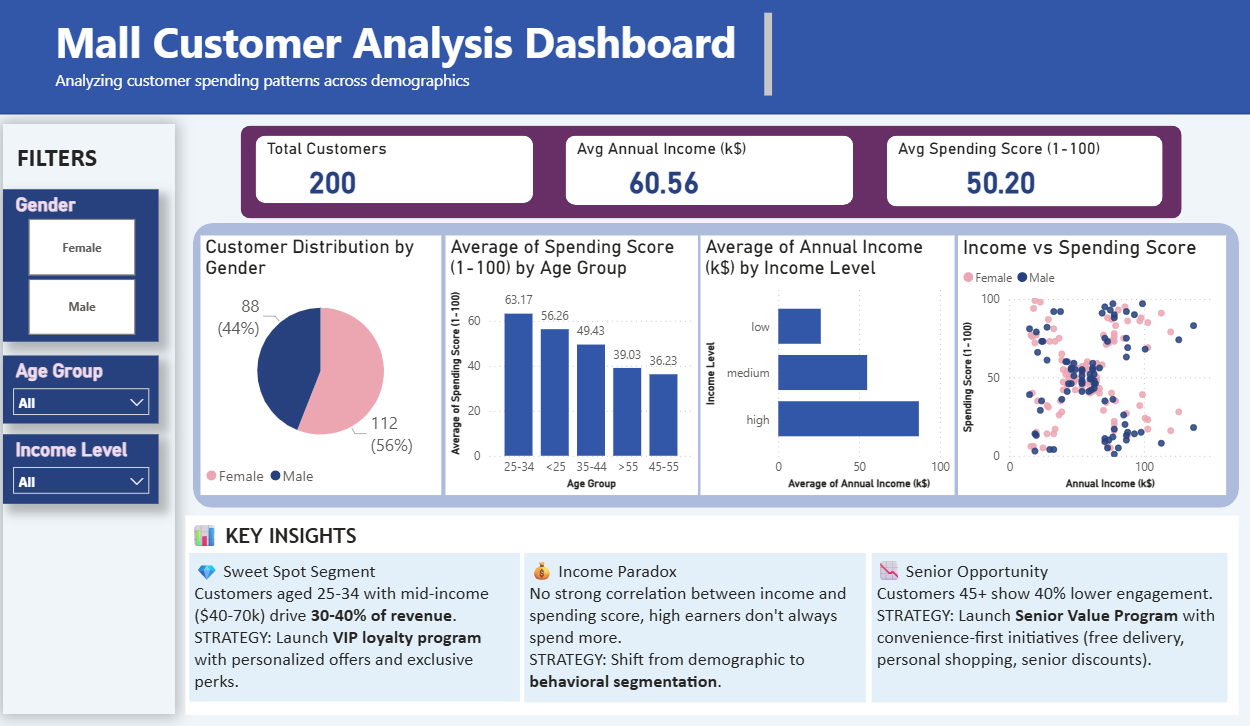

Layout of this report page (visuals, bound fields, positions):
{"tool":"powerbi","page":{"name":"Page 1","canvas":[1290,746],"ordinal":0},"visuals":[{"type":"shape","box":[247.8,129.9,963.3,95.3],"z":1000},{"type":"shape","box":[909.6,140.3,282.4,72.8],"z":2000},{"type":"shape","box":[580.4,140.3,294.5,71],"z":3000},{"type":"shape","box":[199.1,230.5,1070.3,291.6],"z":4000},{"type":"shape","box":[5.2,129.2,176.4,604.1],"z":5000},{"type":"shape","box":[0,0,1290.4,118.7],"z":6000},{"type":"shape","box":[263.3,140.3,284.1,69.3],"z":7000},{"type":"card","title":"Total Customers","fields":{"Values":["CountNonNull(Mall_Customers.CustomerID)"]},"box":[270.3,143.8,145.5,67.6],"z":8000},{"type":"card","title":"Avg Annual Income (k$)","fields":{"Values":["Avg(Mall_Customers.Annual Income (k$))"]},"box":[587.3,143.8,188.8,67.6],"z":9000},{"type":"card","title":"Avg Spending Score (1-100)","fields":{"Values":["Avg(Mall_Customers.Spending Score (1-100))"]},"box":[916.5,143.8,220,67.6],"z":10000},{"type":"pieChart","title":"Customer Distribution by Gender","fields":{"Category":["Mall_Customers.Gender"],"Y":["CountNonNull(Mall_Customers.CustomerID)"]},"box":[207.8,242.7,246.2,265.4],"z":11000},{"type":"clusteredColumnChart","fields":{"Category":["Mall_Customers.Age Group"],"Y":["Avg(Mall_Customers.Spending Score (1-100))"]},"box":[457.5,242.7,258.4,265.4],"z":12000},{"type":"clusteredBarChart","fields":{"Category":["Mall_Customers.Income Level"],"Y":["Avg(Mall_Customers.Annual Income (k$))"]},"box":[719.4,242.7,260.2,265.4],"z":13000},{"type":"scatterChart","title":"Income vs Spending Score","fields":{"X":["Mall_Customers.Annual Income (k$)"],"Y":["Mall_Customers.Spending Score (1-100)"],"Series":["Mall_Customers.Gender"]},"box":[983,242.7,274.1,265.4],"z":14000},{"type":"slicer","fields":{"Values":["Mall_Customers.Gender"]},"box":[5.2,195.8,159.4,155.9],"z":15000},{"type":"slicer","fields":{"Values":["Mall_Customers.Age Group"]},"box":[5.2,365.6,159.4,69.3],"z":16000},{"type":"textbox","box":[53.7,10.4,743.3,100.5],"z":17000},{"type":"slicer","fields":{"Values":["Mall_Customers.Income Level"]},"box":[5.2,447,159.4,71],"z":18000},{"type":"textbox","box":[192.1,529.1,1077.3,204.3],"z":19000},{"type":"textbox","box":[195.6,567.5,338.7,151.9],"z":19001},{"type":"textbox","box":[538.8,567.5,350,152.5],"z":19002},{"type":"textbox","box":[894,567.5,363.8,152.5],"z":19003},{"type":"textbox","box":[13.9,142.1,157.7,52],"z":19004}]}

Visuals, with their boxes in screenshot pixels (x1, y1, x2, y2), scaled from the page's 1290x746 canvas onto the 1250x726 screenshot:
shape: crop(240, 126, 1174, 219)
shape: crop(881, 137, 1155, 207)
shape: crop(562, 137, 848, 206)
shape: crop(193, 224, 1230, 508)
shape: crop(5, 126, 176, 714)
shape: crop(0, 0, 1249, 116)
shape: crop(255, 137, 530, 204)
"Total Customers" card: crop(262, 140, 403, 206)
"Avg Annual Income (k$)" card: crop(569, 140, 752, 206)
"Avg Spending Score (1-100)" card: crop(888, 140, 1101, 206)
"Customer Distribution by Gender" pieChart: crop(201, 236, 440, 494)
clusteredColumnChart - Mall_Customers.Age Group x Avg(Mall_Customers.Spending Score (1-100)): crop(443, 236, 694, 494)
clusteredBarChart - Mall_Customers.Income Level x Avg(Mall_Customers.Annual Income (k$)): crop(697, 236, 949, 494)
"Income vs Spending Score" scatterChart: crop(953, 236, 1218, 494)
slicer - Mall_Customers.Gender: crop(5, 191, 159, 342)
slicer - Mall_Customers.Age Group: crop(5, 356, 159, 423)
textbox: crop(52, 10, 772, 108)
slicer - Mall_Customers.Income Level: crop(5, 435, 159, 504)
textbox: crop(186, 515, 1230, 714)
textbox: crop(190, 552, 518, 700)
textbox: crop(522, 552, 861, 701)
textbox: crop(866, 552, 1219, 701)
textbox: crop(13, 138, 166, 189)
